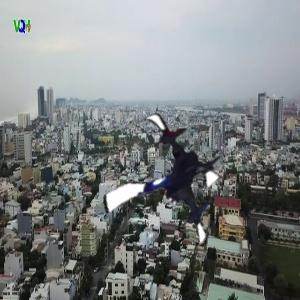drone: (90, 114, 240, 264)
